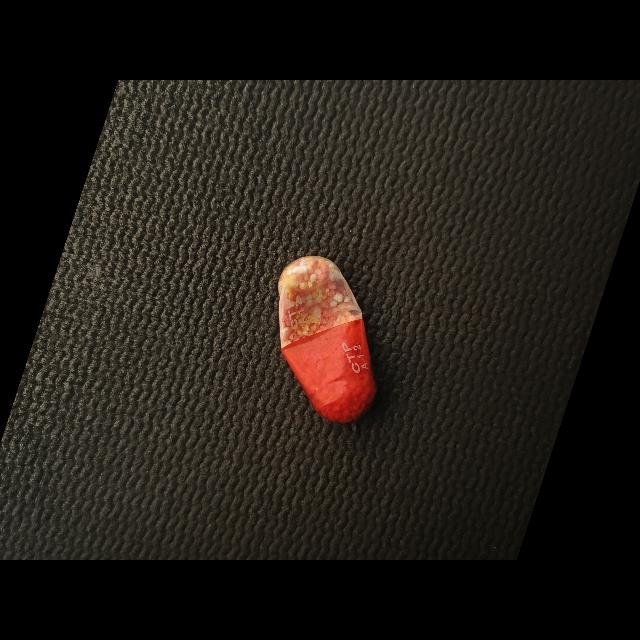Defective Capsule: (278, 256, 377, 423)
